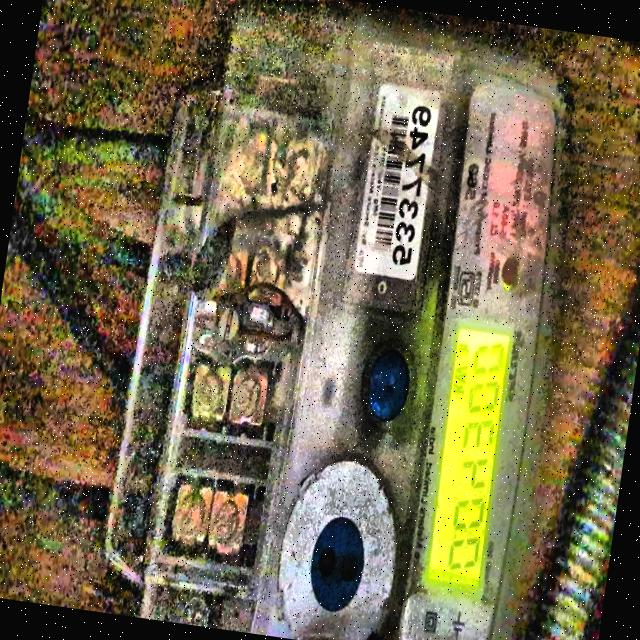Digital: (102, 4, 589, 640)
Reading: (442, 333, 510, 585)
Serial No.: (390, 98, 433, 272)
